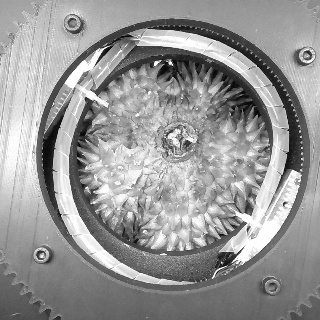base: (150, 109, 207, 168)
end: (161, 121, 199, 158)
